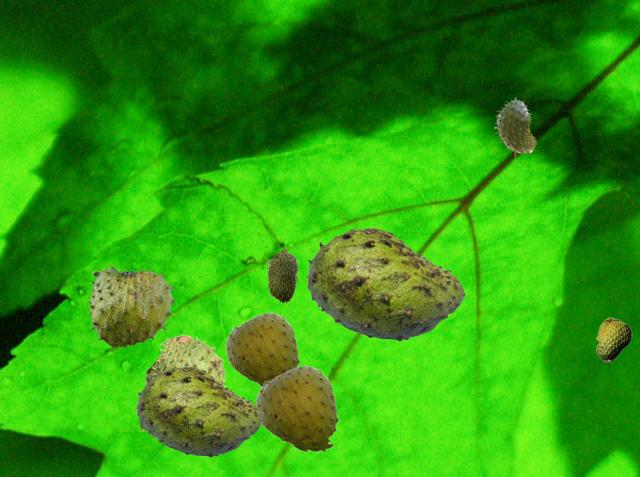guyabano: (306, 227, 464, 340), (136, 366, 262, 456), (134, 335, 225, 437), (254, 365, 338, 453), (87, 264, 175, 347), (224, 312, 299, 386), (494, 97, 536, 157), (266, 247, 298, 302), (595, 317, 631, 362)
